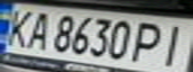0: (106, 17, 136, 62)
3: (87, 15, 115, 60)
6: (66, 14, 93, 56)
8: (45, 11, 78, 54)
A: (21, 9, 54, 52)
I: (151, 20, 193, 69)
K: (0, 7, 39, 48)
P: (127, 19, 172, 66)
